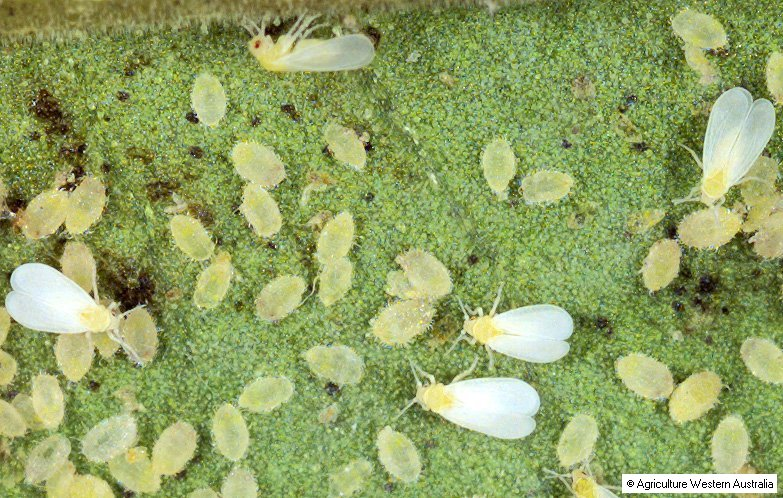whitefly: (2, 260, 148, 368), (673, 84, 775, 230), (395, 360, 541, 445), (449, 292, 574, 382), (240, 14, 377, 77)
